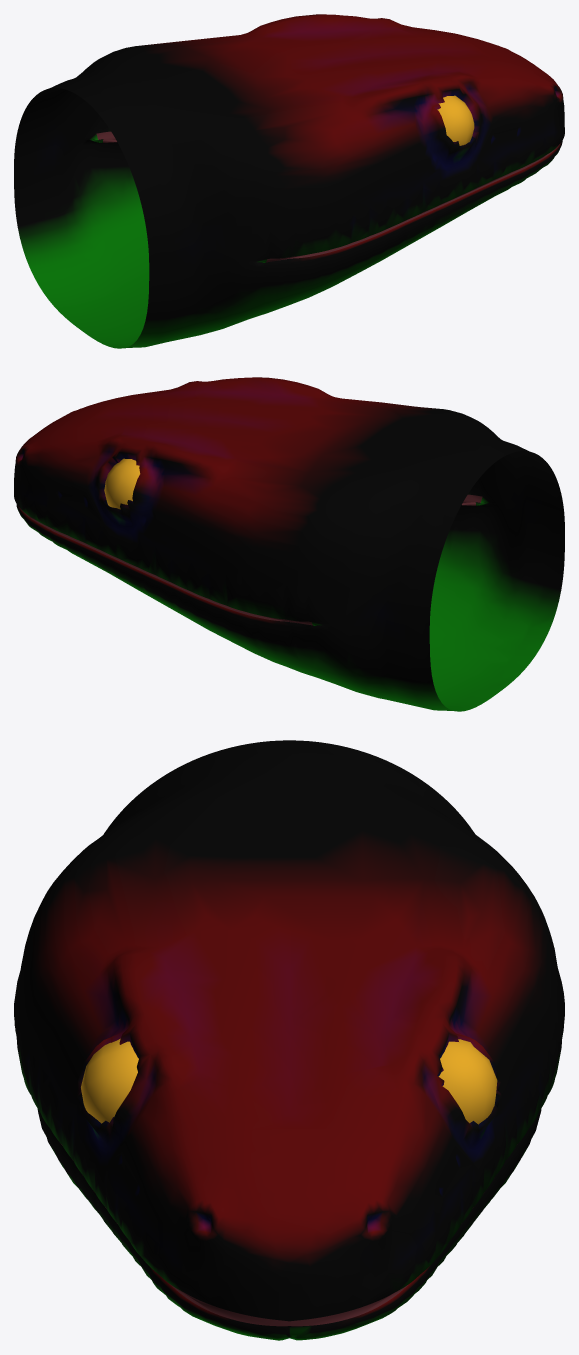
Rendered from SM_SnakeHead_L2.glb.
3 views of the same model, one above another, from view 1: azimuth 30°, elevation 25°; view 2: azimuth 150°, elevation 25°; view 3: azimuth 270°, elevation 25° (orthographic). The views are drawn at different scales.
Visible parts, largest first — view 1: SM_SnakeHead; view 2: SM_SnakeHead; view 3: SM_SnakeHead.
Part boxes in pixels (x1=…): SM_SnakeHead: x1=14, y1=14, x2=564, y2=348; SM_SnakeHead: x1=14, y1=377, x2=564, y2=711; SM_SnakeHead: x1=14, y1=740, x2=564, y2=1340.
Bounding box in the file's own units: 1.96 × 0.947 × 1.25.
